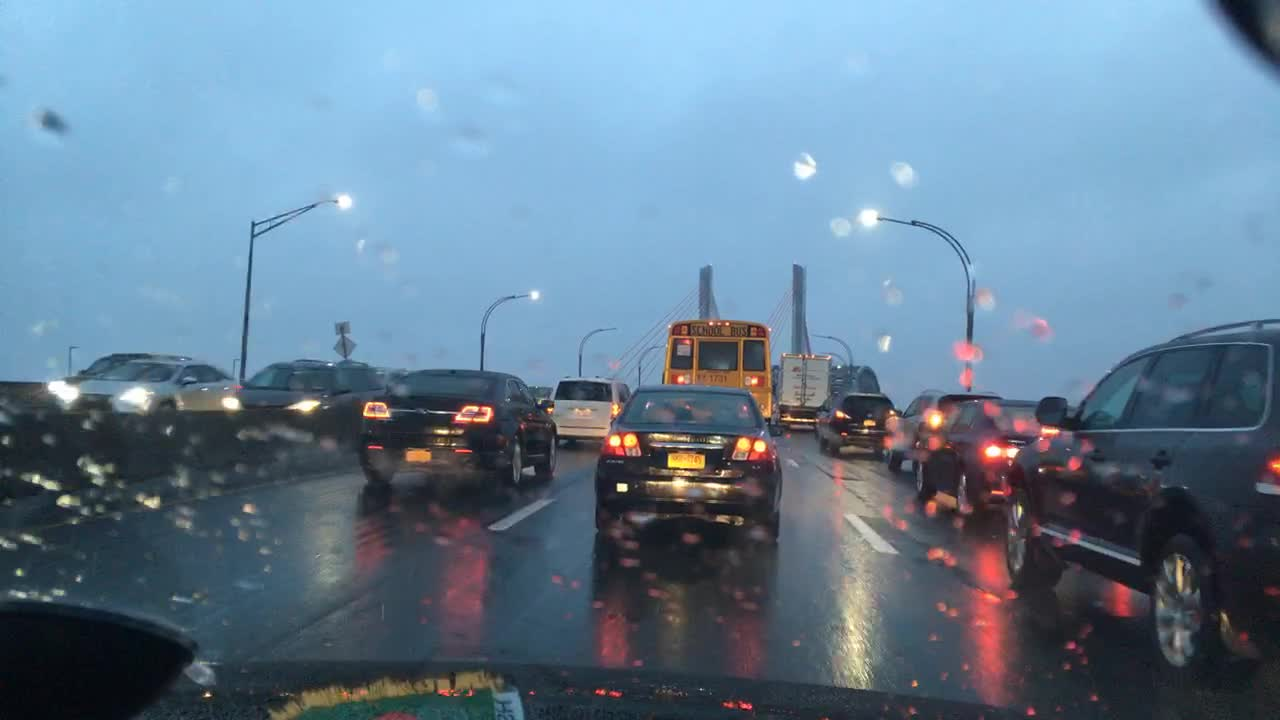bus: (658, 319, 773, 422)
car: (1002, 315, 1279, 692), (594, 385, 781, 550), (359, 369, 558, 482), (911, 401, 1070, 515), (887, 391, 1002, 476), (49, 361, 238, 408), (241, 361, 386, 410), (815, 390, 897, 454), (550, 378, 631, 442), (71, 354, 189, 380), (0, 380, 69, 415), (369, 366, 408, 390)
traffic sign: (329, 336, 356, 359), (332, 320, 347, 334)
truck: (774, 351, 832, 430)
